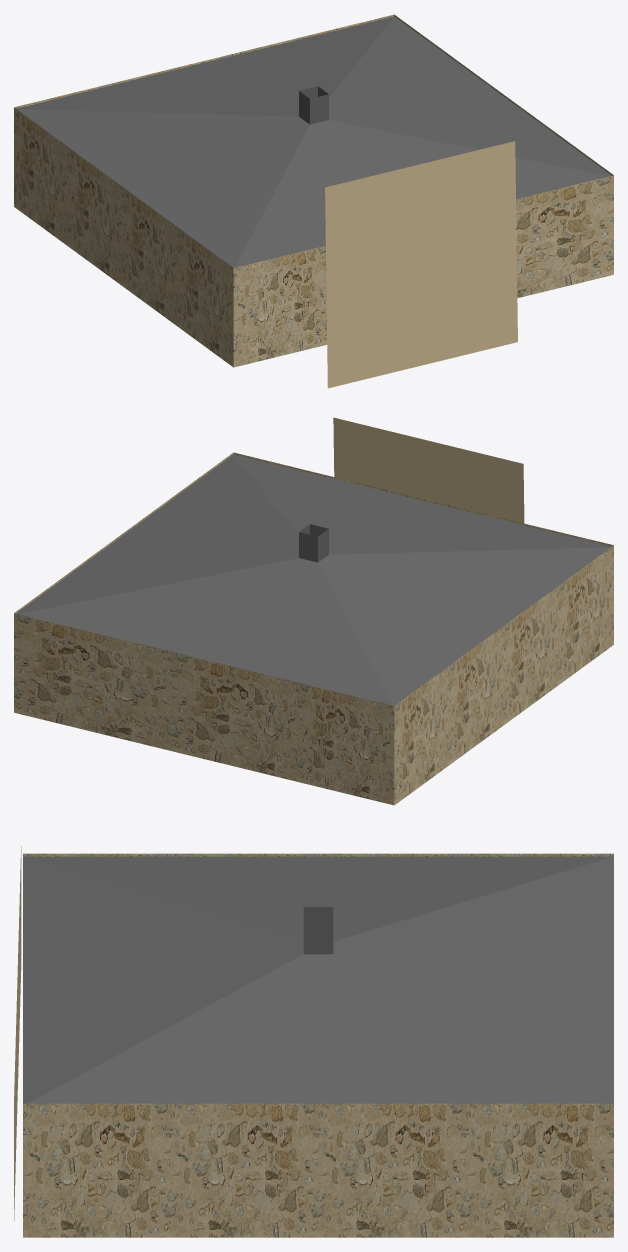
Rendered from room_walls.obj.
3 views of the same model, one above another, from view 1: azimuth 30°, elevation 25°; view 2: azimuth 150°, elevation 25°; view 3: azimuth 270°, elevation 25° (orthographic). The views are drawn at different scales.
Visible parts, largest first — view 1: default.001, default.002; view 2: default.002, default.001; view 3: default.002, default.001.
Boxes of the visible parts, left/top/right/bottom form: default.001: left=14, top=14, right=613, bottom=388; default.002: left=16, top=16, right=611, bottom=267; default.002: left=16, top=454, right=611, bottom=705; default.001: left=14, top=417, right=613, bottom=805; default.002: left=23, top=856, right=613, bottom=1103; default.001: left=14, top=846, right=613, bottom=1237.
Bounding box in the file's own units: 4 × 2 × 4.06.
